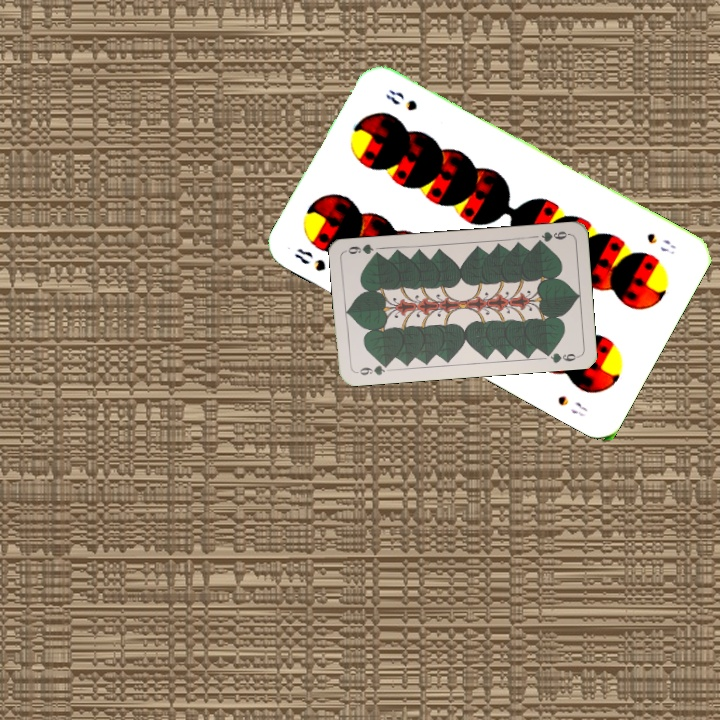G9: (532, 227, 572, 247), (352, 359, 392, 378)
S8: (290, 243, 329, 274), (642, 228, 679, 257)
